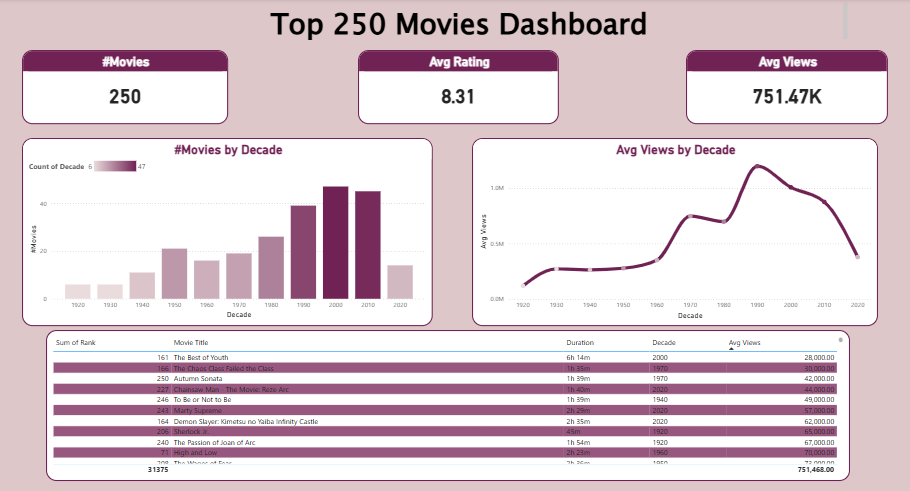

This screenshot's page, from the dashboard's own definition file:
{"tool":"powerbi","page":{"name":"Page 1","canvas":[1900,1000],"ordinal":0},"visuals":[{"type":"card","title":"#Movies","fields":{"Values":["Measuresss.#Movies"]},"box":[52.8,94.3,388.7,139.6],"z":0},{"type":"card","title":"Avg Rating","fields":{"Values":["Measuresss.Avg Rating"]},"box":[686.8,94.3,379.2,139.6],"z":1000},{"type":"card","title":"Avg Views","fields":{"Values":["Measuresss.Avg Views"]},"box":[1305.7,94.3,381.1,139.6],"z":2000},{"type":"clusteredColumnChart","fields":{"Category":["Top 250 Movies.Decade"],"Y":["Measuresss.#Movies"]},"box":[52.8,260.4,775.5,354.7],"z":3000},{"type":"tableEx","fields":{"Values":["Sum(Top 250 Movies.Rank)","Top 250 Movies.Movie Title","Top 250 Movies.Duration","Top 250 Movies.Decade","Measuresss.Avg Views"]},"box":[98.1,622.6,1517,284.9],"z":4000},{"type":"lineChart","fields":{"Y":["Measuresss.Avg Views"],"Category":["Top 250 Movies.Decade"]},"box":[901.9,260.4,766,354.7],"z":5000},{"type":"textbox","box":[147.2,0,1467.9,84.9],"z":6000}]}

Visuals, with their boxes in screenshot pixels (x1, y1, x2, y2), scaled from the page's 1900x1000 canvas onto the 910x491 screenshot:
"#Movies" card: (25,46,211,115)
"Avg Rating" card: (329,46,511,115)
"Avg Views" card: (625,46,808,115)
clusteredColumnChart - Top 250 Movies.Decade x Measuresss.#Movies: (25,128,397,302)
tableEx - Sum(Top 250 Movies.Rank) x Top 250 Movies.Movie Title: (47,306,774,446)
lineChart - Measuresss.Avg Views x Top 250 Movies.Decade: (432,128,799,302)
textbox: (71,0,774,42)
